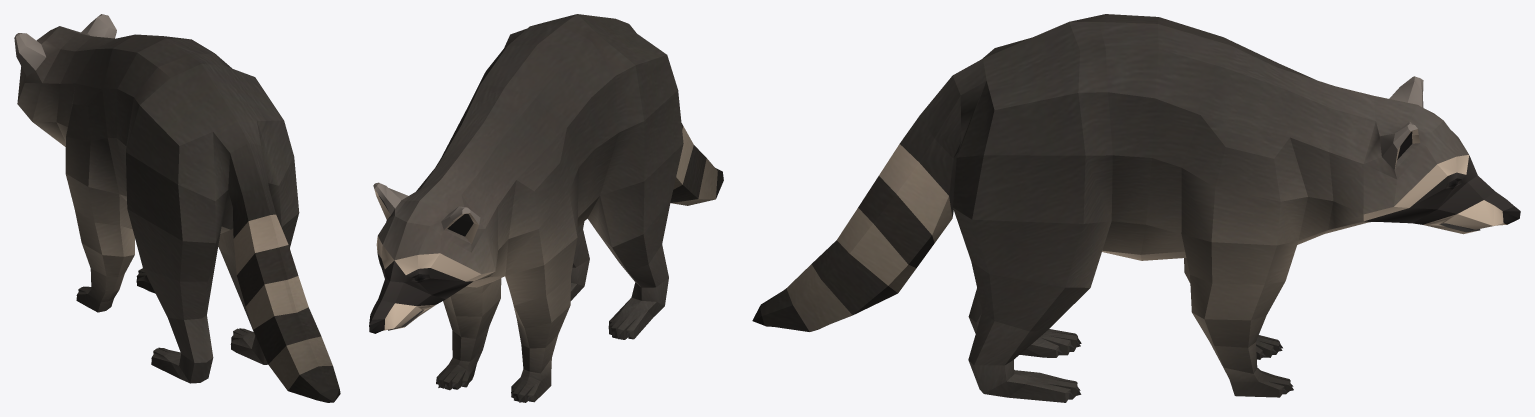
Rendered from raccoon.glb.
3 views of the same model, side by side, from view 1: azimuth 30°, elevation 25°; view 2: azimuth 150°, elevation 25°; view 3: azimuth 270°, elevation 25° (orthographic). The views are drawn at different scales.
Visible parts, largest first — view 1: Raccoon; view 2: Raccoon; view 3: Raccoon.
Part boxes in pixels (x1,y1,x2,y2): Raccoon: [14, 14, 340, 402]; Raccoon: [369, 14, 723, 402]; Raccoon: [752, 14, 1520, 402].
Bounding box in the file's own units: 0.176 × 0.3526 × 0.7007.
1 material, 1 textured.
